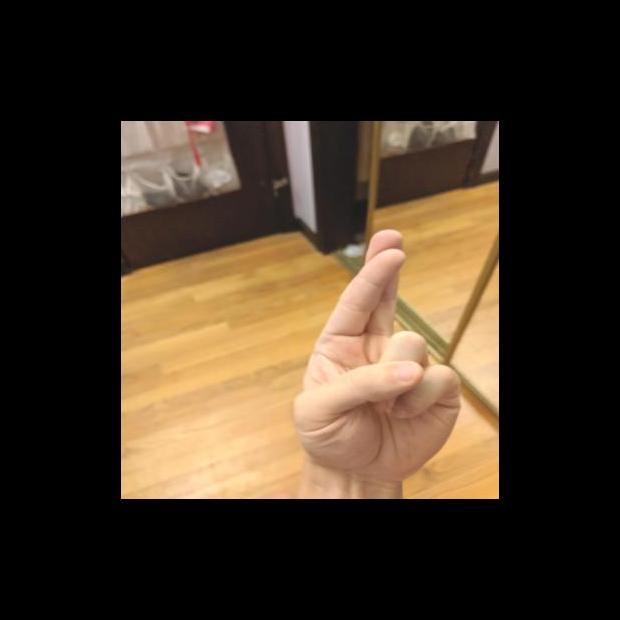Q: (286, 226, 472, 486)
